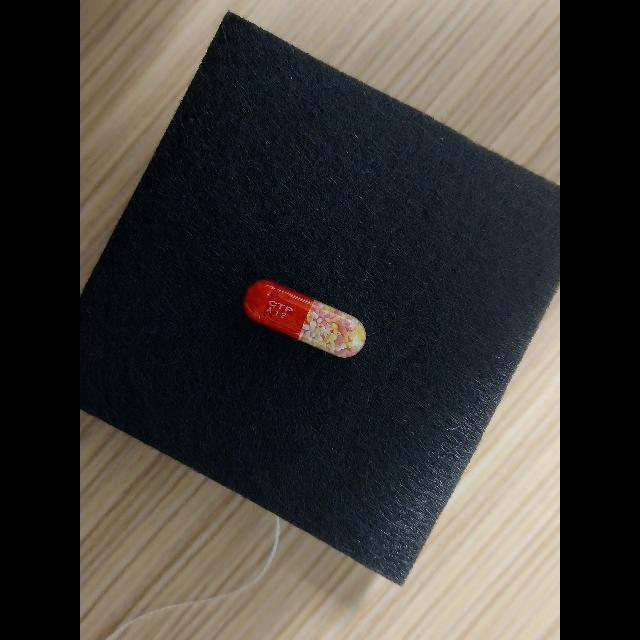Intact Capsule: (243, 279, 366, 358)
